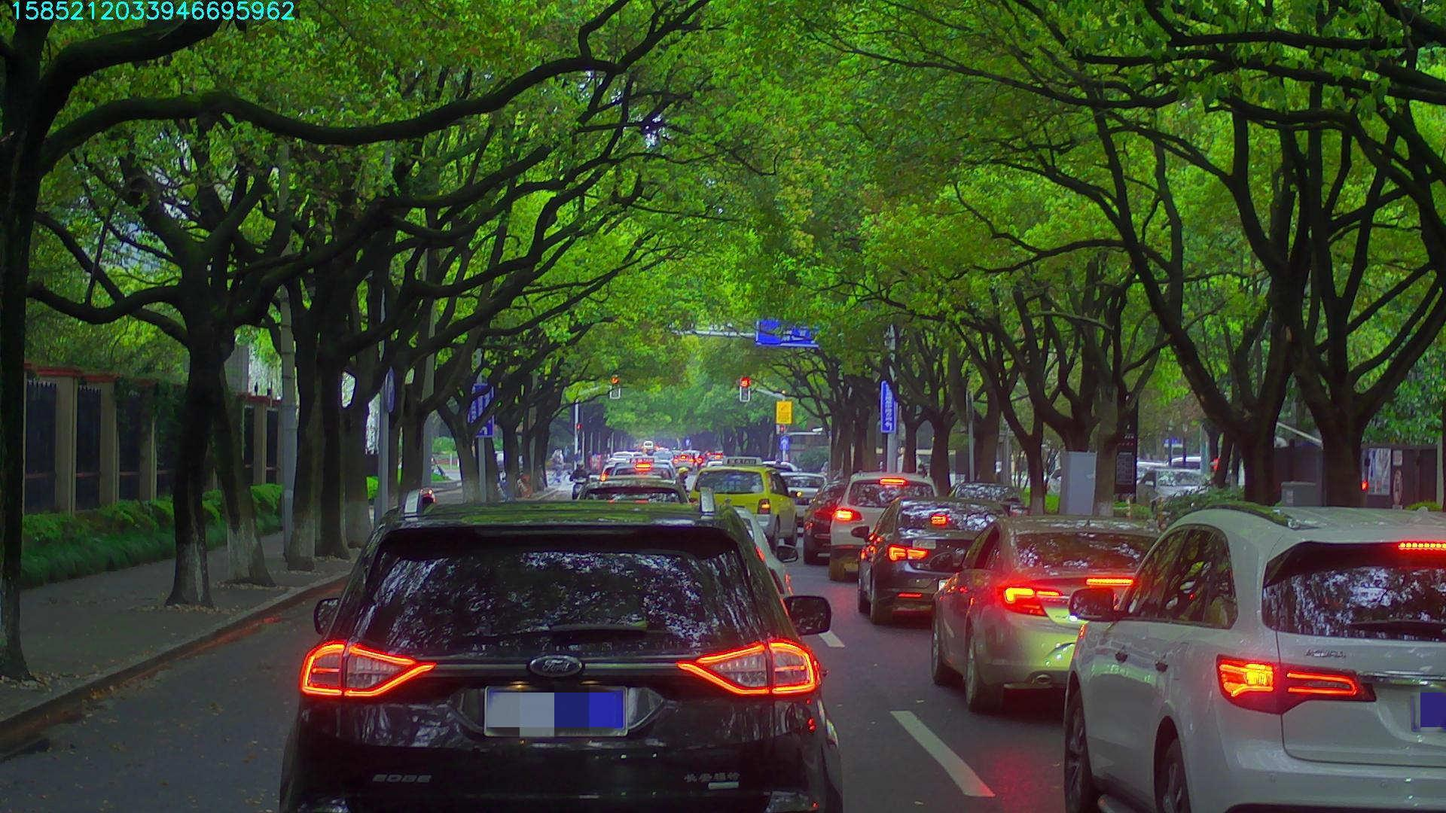red: (609, 375, 619, 398), (740, 376, 749, 400)
